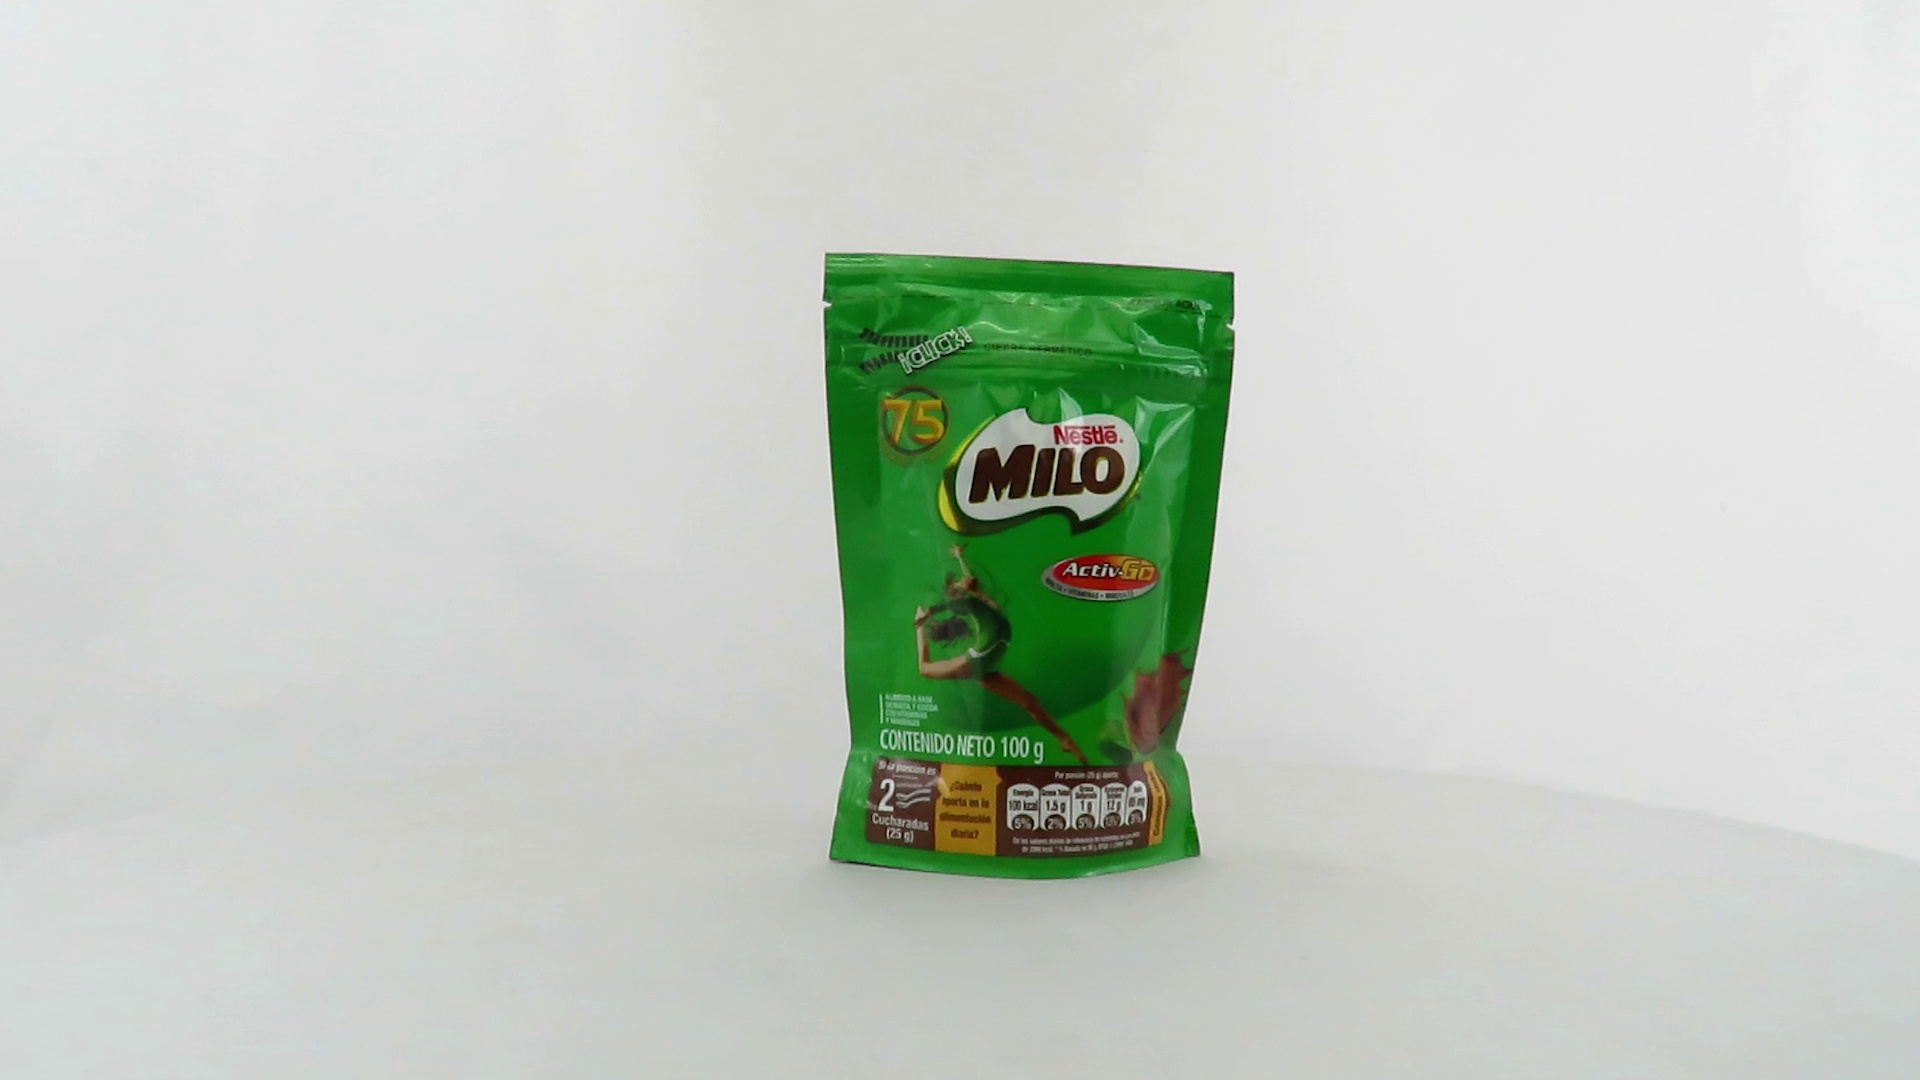COL0170203DYP10000: (818, 247, 1241, 886)
